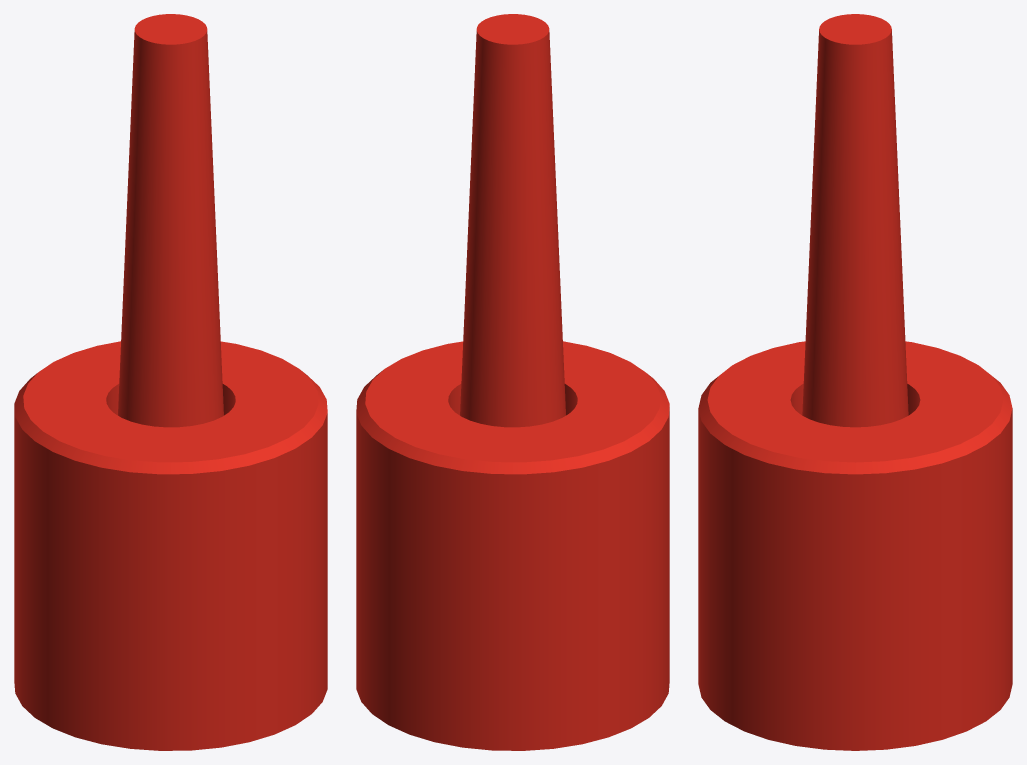
Rendered from PlatformCubuklutop.fbx.
3 renders of one model, left to right at view 1: azimuth 30°, elevation 25°; view 2: azimuth 150°, elevation 25°; view 3: azimuth 270°, elevation 25°, orthographic.
Visible parts, largest first — view 1: Cylinder; view 2: Cylinder; view 3: Cylinder.
Part boxes in pixels (x1,y1,x2,y2): Cylinder: [14, 14, 327, 750]; Cylinder: [356, 14, 669, 750]; Cylinder: [698, 14, 1012, 750].
Size of the model in its own units: 108 by 250 by 108.
